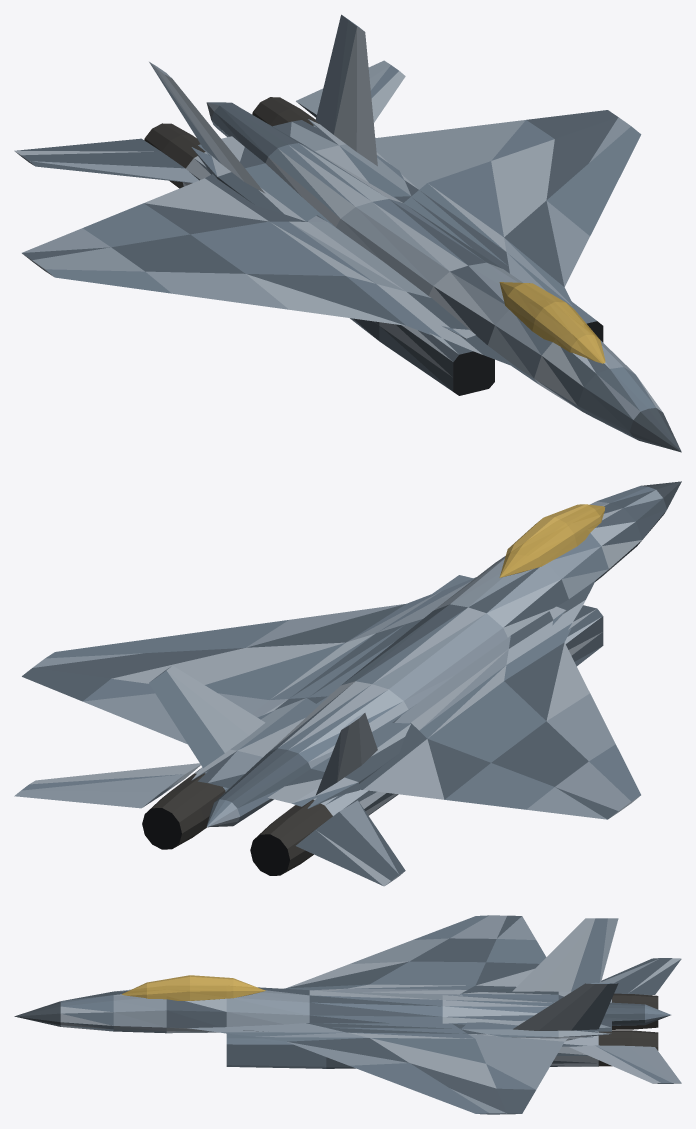
The picture shows the model from 3 angles, top to bottom: view 1: azimuth 30°, elevation 25°; view 2: azimuth 150°, elevation 25°; view 3: azimuth 270°, elevation 25°; orthographic projection. The views are drawn at different scales.
Visible parts, largest first — view 1: airframe, canopy; view 2: airframe, canopy; view 3: airframe, canopy.
Boxes of the visible parts, x1,y1,x2,y2 form: airframe: (14,14,681,452); canopy: (499,282,605,363); airframe: (14,481,681,886); canopy: (499,504,605,577); airframe: (14,915,681,1114); canopy: (122,975,265,1000).
Size of the model in its own units: 14.1 by 3.22 by 20.11.
